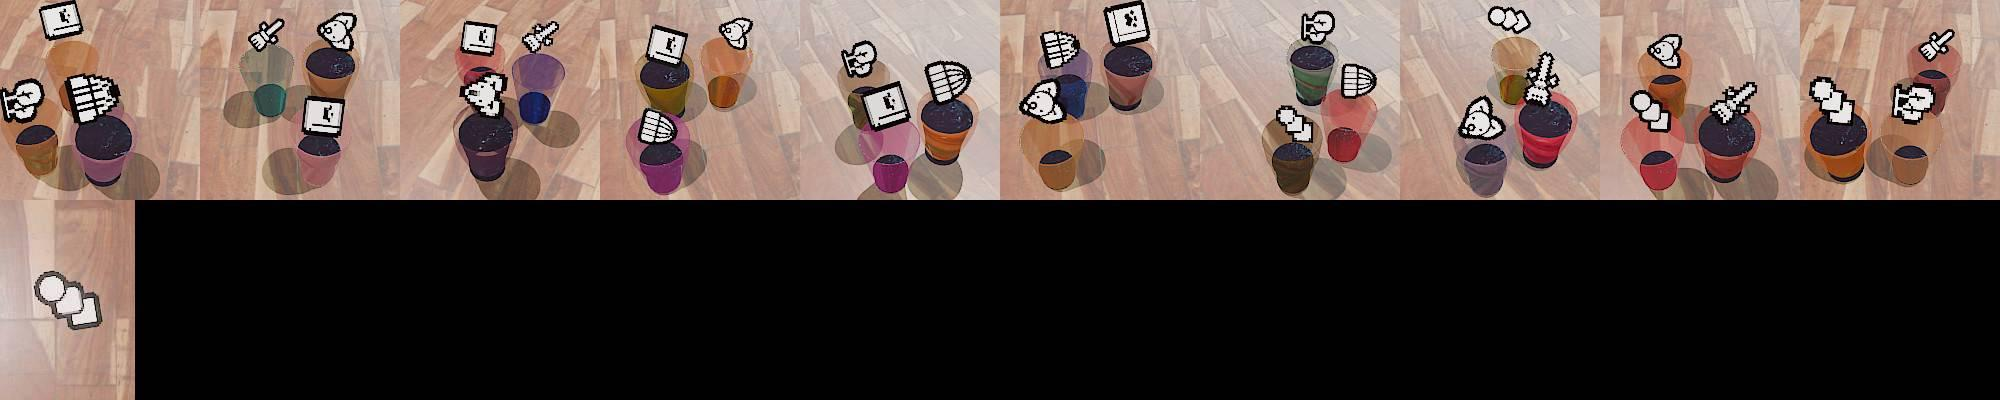icon: (33, 269, 105, 331), (855, 80, 912, 132), (62, 73, 120, 124), (1810, 75, 1858, 129), (1457, 92, 1505, 141), (1707, 79, 1758, 126), (1522, 48, 1562, 106), (1103, 1, 1153, 47), (460, 71, 508, 117), (925, 60, 972, 104), (1019, 79, 1065, 124), (1629, 88, 1673, 132), (0, 78, 45, 122), (645, 23, 690, 66), (301, 94, 347, 136), (38, 1, 84, 43), (1892, 82, 1935, 124), (1274, 103, 1316, 145), (1040, 31, 1080, 70), (316, 11, 356, 52), (638, 106, 677, 145), (460, 19, 499, 57), (841, 39, 878, 79), (247, 18, 286, 54), (522, 19, 560, 55), (1647, 33, 1684, 69), (1341, 61, 1376, 98), (1487, 5, 1532, 34), (1301, 9, 1335, 45), (718, 17, 754, 51), (1920, 28, 1955, 60)
